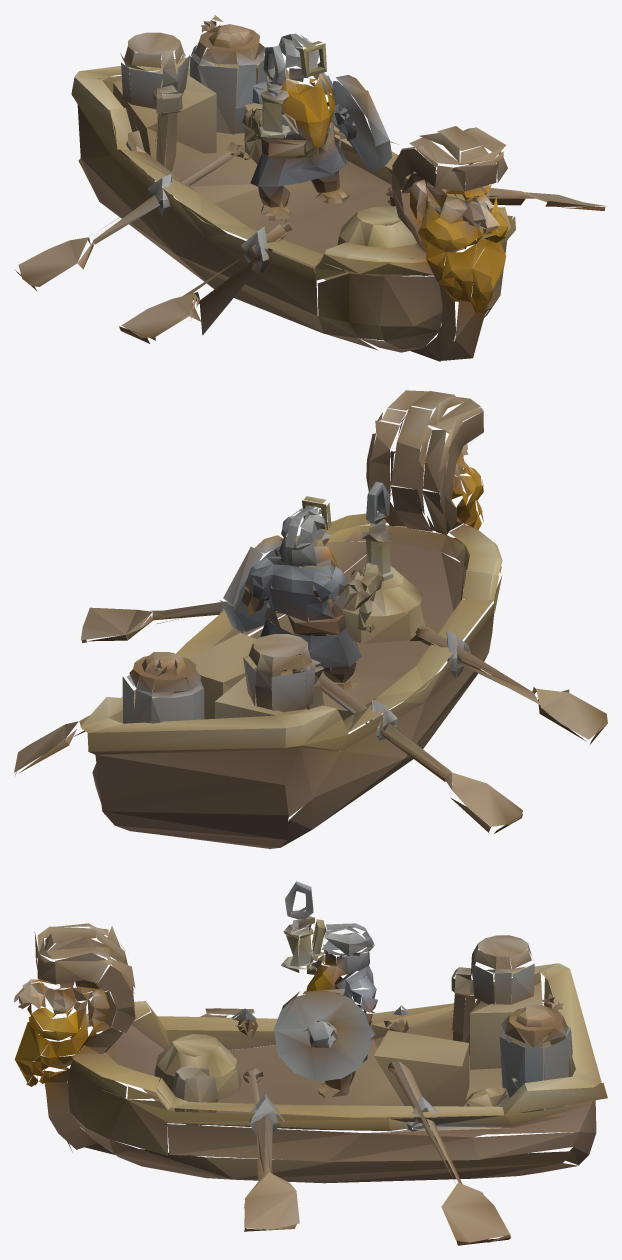
File: transport.glb
The picture shows the model from 3 angles, top to bottom: view 1: azimuth 30°, elevation 25°; view 2: azimuth 150°, elevation 25°; view 3: azimuth 270°, elevation 25°; orthographic projection. The views are drawn at different scales.
Visible parts, largest first — view 1: transport; view 2: transport; view 3: transport.
Boxes of the visible parts, box(x1,y1,x2,y2) form: transport: box(14, 15, 606, 361); transport: box(14, 390, 607, 848); transport: box(14, 881, 607, 1245).
Bounding box in the file's own units: 2.74 × 1.43 × 2.99.
